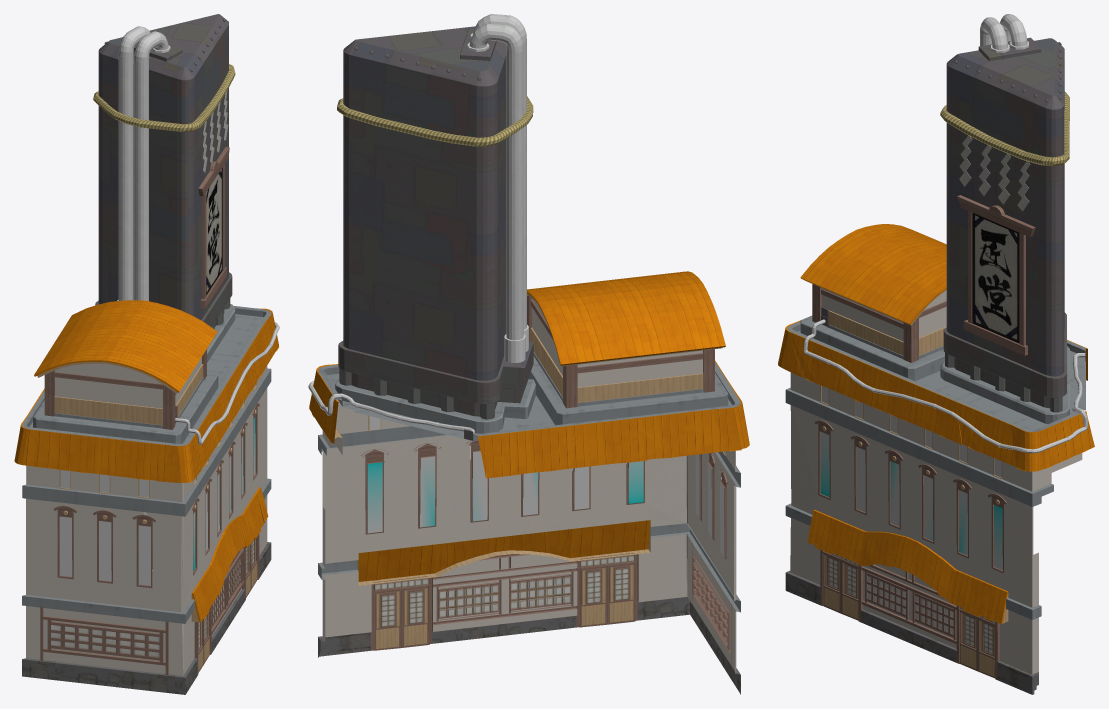
File: SM_ENV_KNVLLG_AreaB_Building_A_Part_01.fbx
3 views of the same model, side by side, from view 1: azimuth 30°, elevation 25°; view 2: azimuth 150°, elevation 25°; view 3: azimuth 270°, elevation 25° (orthographic). The views are drawn at different scales.
Visible parts, largest first — view 1: SM_ENV_KNVLLG_AreaB_Building_A_Part_01.mo; view 2: SM_ENV_KNVLLG_AreaB_Building_A_Part_01.mo; view 3: SM_ENV_KNVLLG_AreaB_Building_A_Part_01.mo.
Part boxes in pixels (x1,y1,x2,y2): SM_ENV_KNVLLG_AreaB_Building_A_Part_01.mo: (14,14,279,694); SM_ENV_KNVLLG_AreaB_Building_A_Part_01.mo: (308,14,749,694); SM_ENV_KNVLLG_AreaB_Building_A_Part_01.mo: (778,14,1094,694).
Size of the model in its own units: 5898 by 10107 by 4813.
